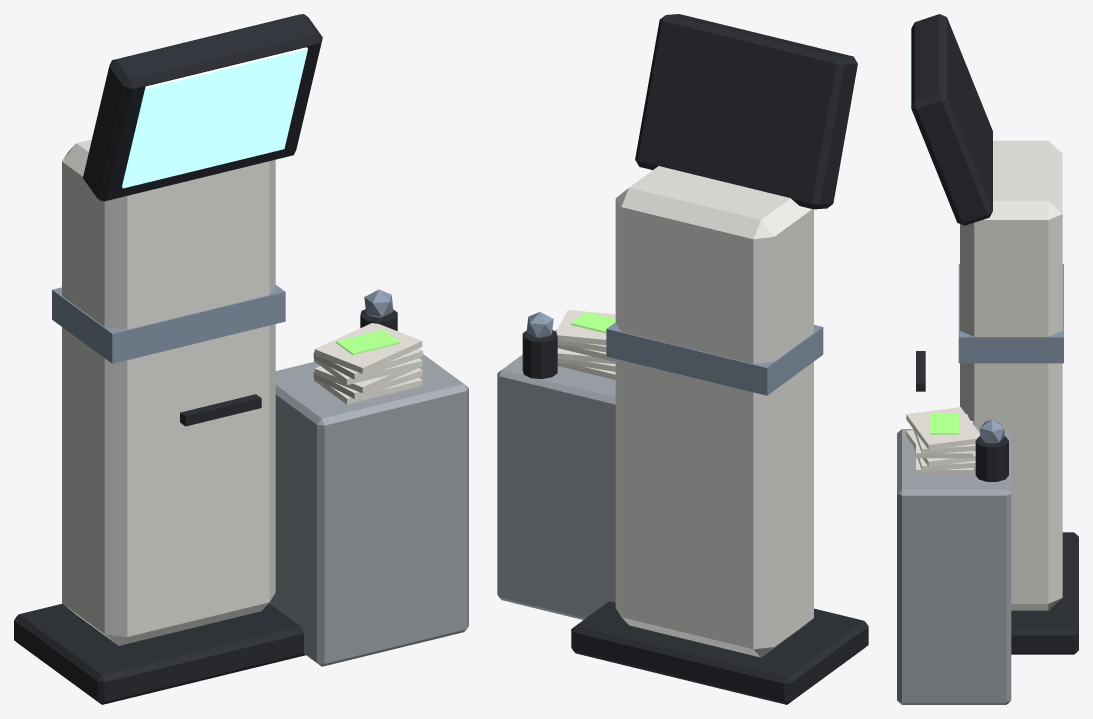
File: selfservice_p2_4.glb
3 renders of one model, left to right at view 1: azimuth 30°, elevation 25°; view 2: azimuth 150°, elevation 25°; view 3: azimuth 270°, elevation 25°, orthographic. The views are drawn at different scales.
Visible parts, largest first — view 1: selfservice_p2_4_mesh; view 2: selfservice_p2_4_mesh; view 3: selfservice_p2_4_mesh.
Part boxes in pixels (x1,y1,x2,y2): selfservice_p2_4_mesh: (14, 14, 468, 704); selfservice_p2_4_mesh: (497, 14, 868, 704); selfservice_p2_4_mesh: (897, 14, 1078, 704).
Bounding box in the file's own units: 0.75 × 1.28 × 0.382.
